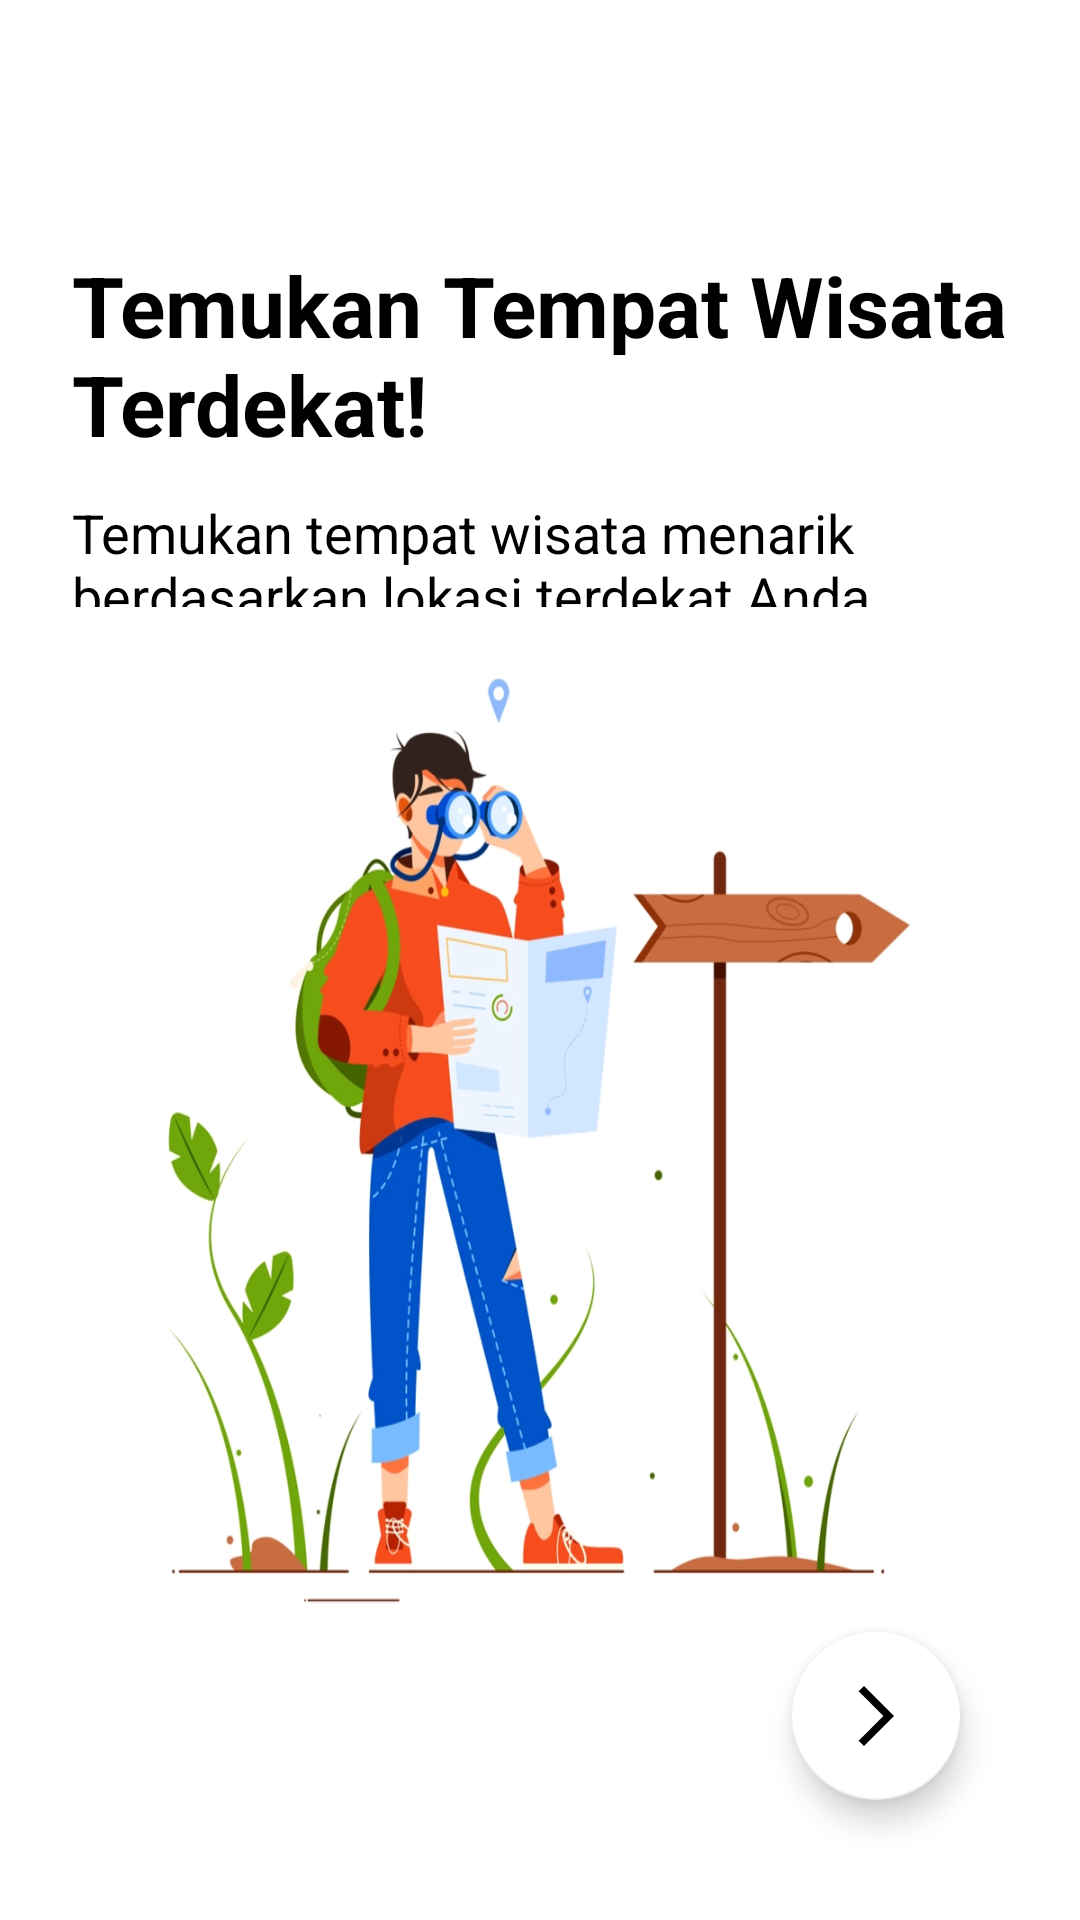

Icon click points for this 1080px×1920px phone screenshot, format (x=x, y=y):
swipe new image: (x=878, y=1743)
